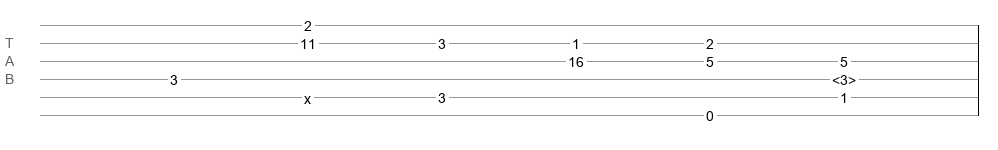0: (706, 108, 714, 118)
1: (572, 36, 580, 46), (840, 90, 848, 100)
11: (300, 36, 316, 46)
16: (568, 54, 584, 64)
2: (304, 18, 312, 28), (706, 36, 714, 46)
3: (170, 72, 178, 82), (438, 90, 446, 100), (438, 36, 446, 46)
5: (706, 54, 714, 64), (840, 54, 848, 64)
harmonic: (832, 72, 856, 82)
x: (304, 91, 311, 99)
